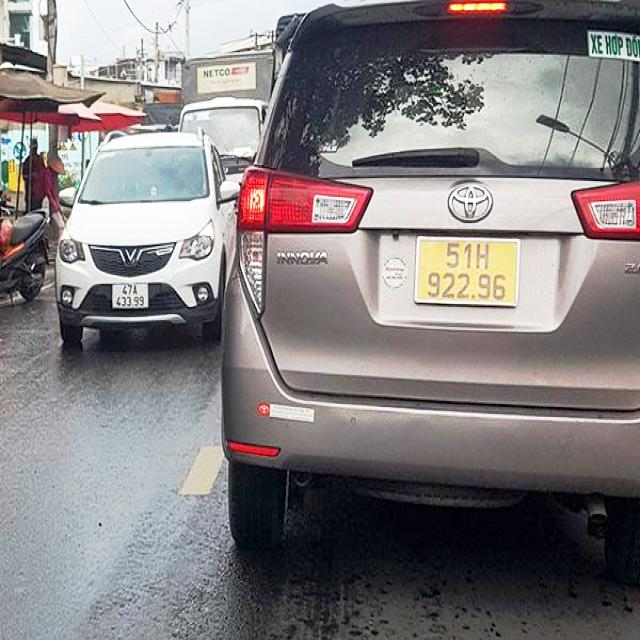license_plate: (414, 238, 519, 311), (112, 282, 150, 312)
